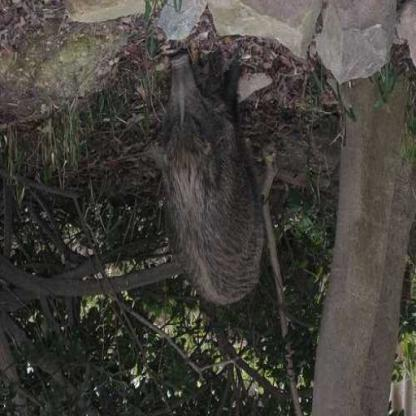boar: (146, 11, 273, 316)
